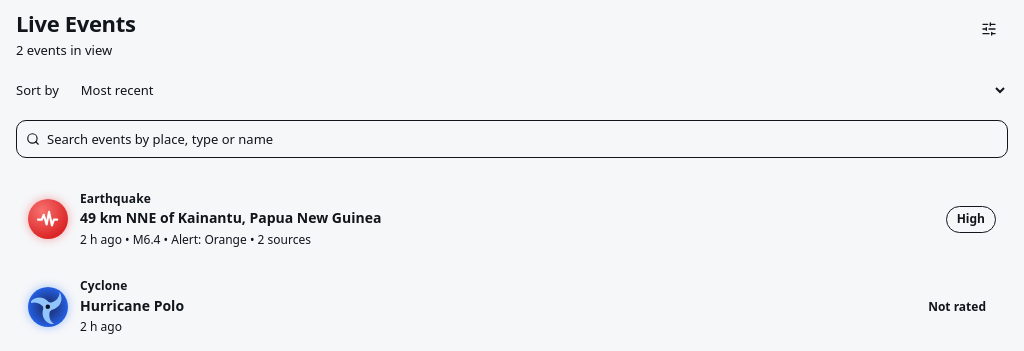
Test: LiveEventsPanel › searches the event cards by place, type or name
This screenshot has width=1024, height=351.
Type "papua" into the search field labelled "Search events by place, type or name". click: {"x": 512, "y": 139}
box: [16,120,1008,158]
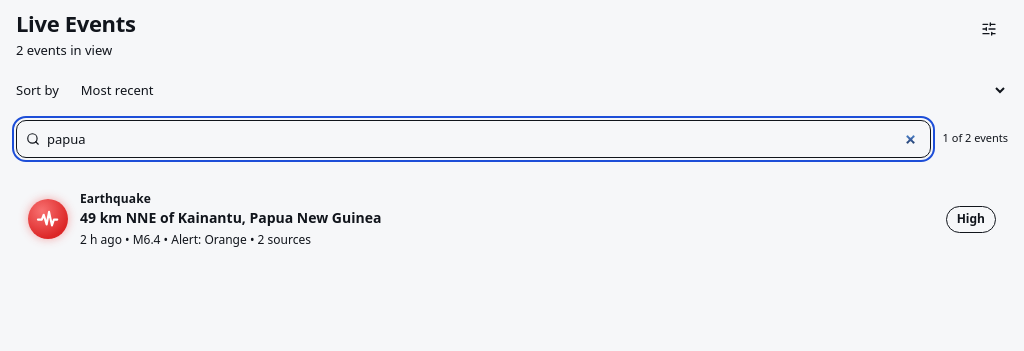
Check: the button "Kainantu" is shown, box [16,180,1008,259]
Check: the button "Polo" is gone
Check: the text "1 of 2 events" is shown, box [943,131,1008,146]
Replace the text in the search field named "Search events by place, type or name" with "cyclone". click: {"x": 473, "y": 139}
box: [16,120,931,158]
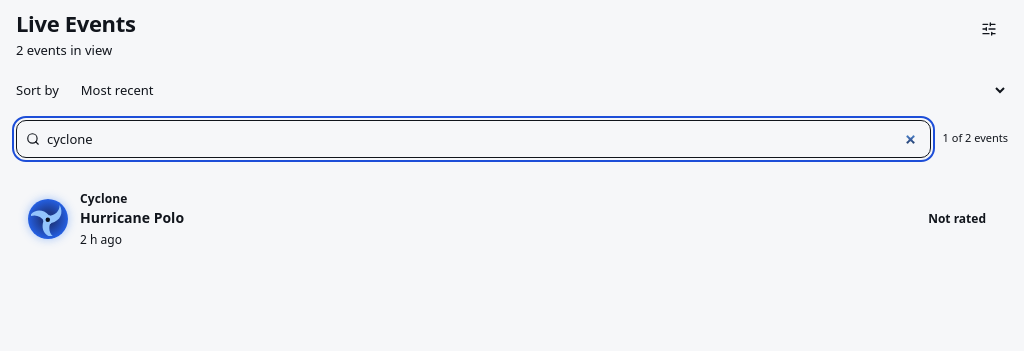
Check: the button "Kainantu" is gone
Replace the text in the search field named "Search events by place, type or name" with "tsunami". click: {"x": 473, "y": 139}
box: [16,120,931,158]
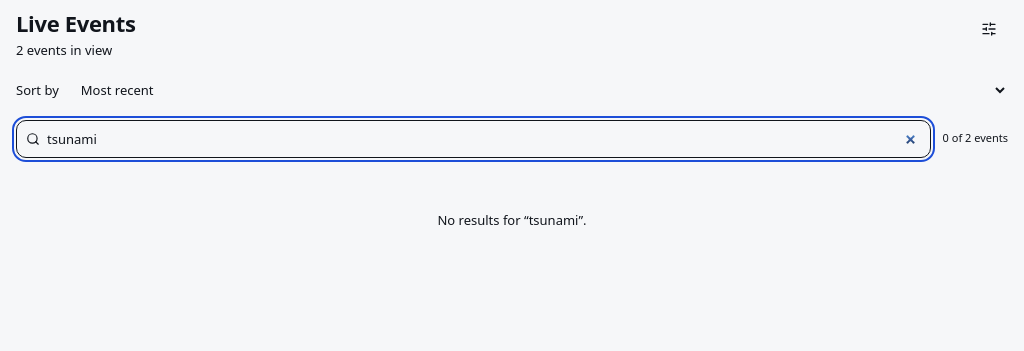
Check: the text "No results for “tsunami”." is shown, box [437,211,587,229]
